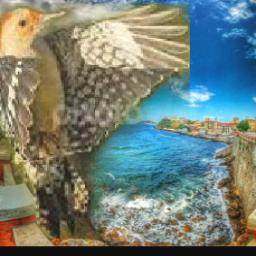Woodpecker: (0, 4, 190, 240)
